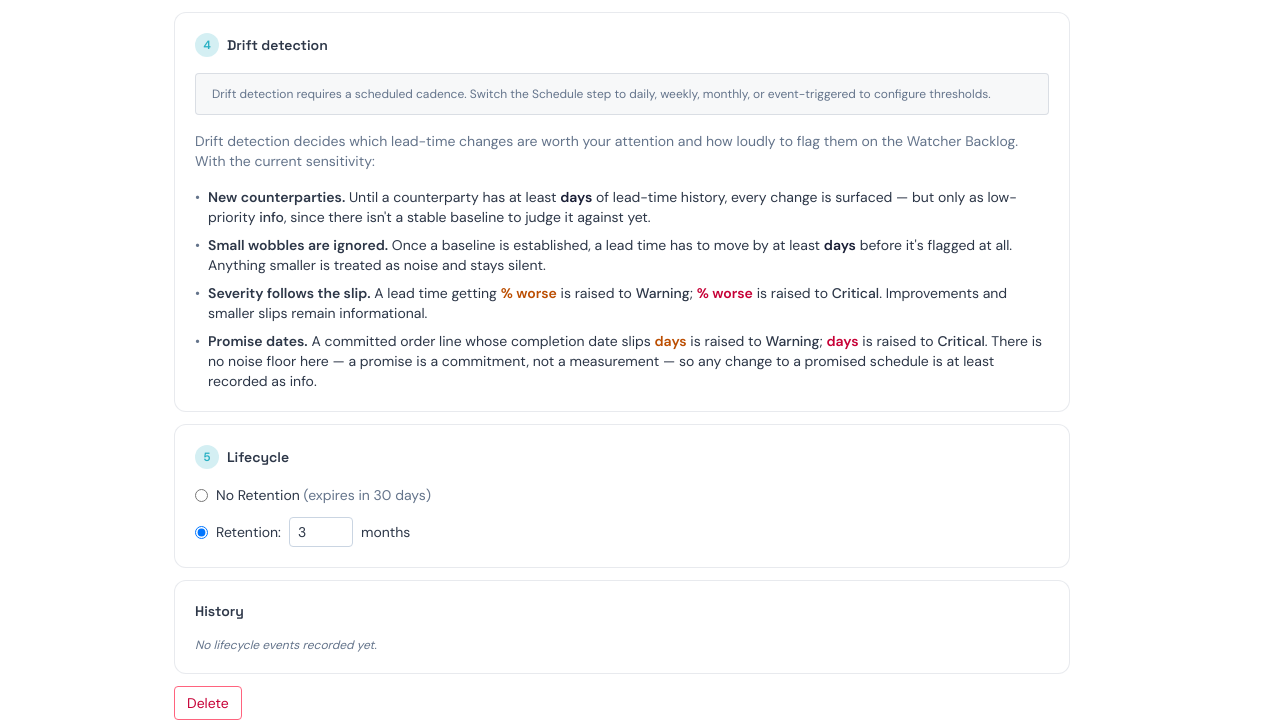
Test: DefinitionEditor (scopeLocked=false — watcher path) › a 409 RUNS_IN_FLIGHT reply becomes a form error naming the count
(page scrolled)
What coordinates should you click on to do the following:
click the button "Delete"
I would click on:
 (208, 703)
Its box is top-left (174, 686), bottom-right (242, 719).
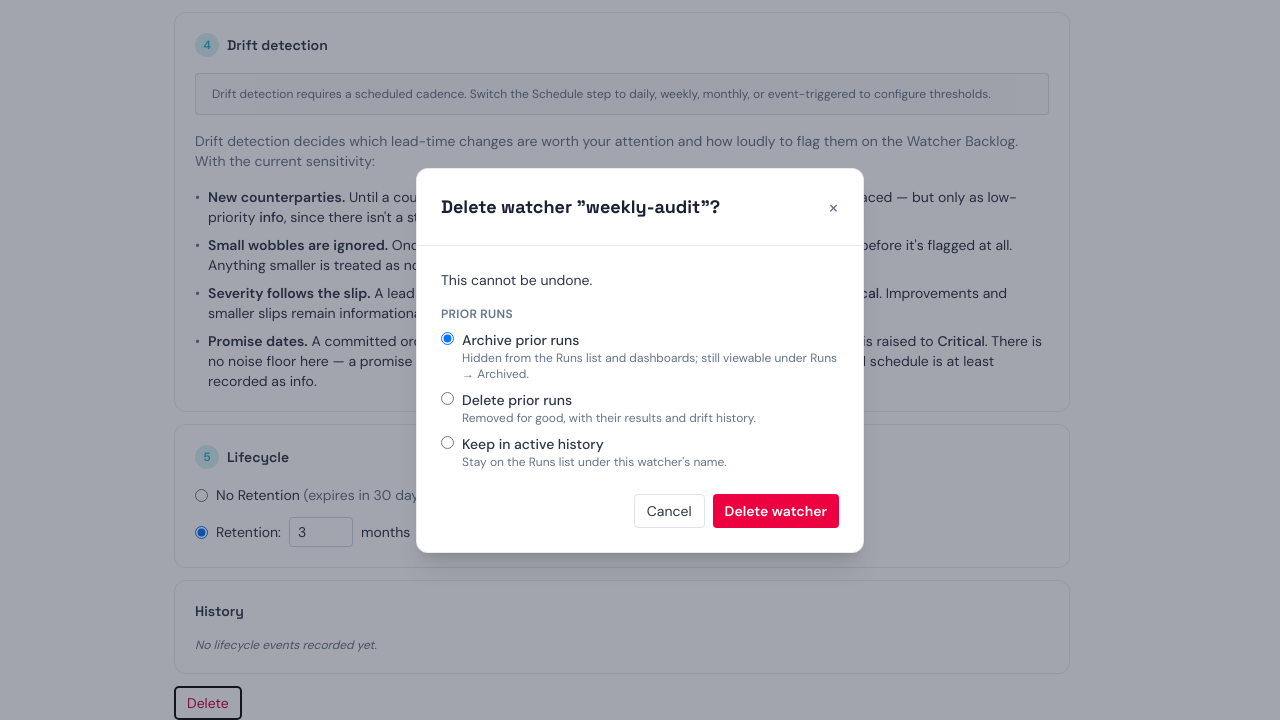
What coordinates should you click on to do the following:
click the button "Delete watcher"
I would click on:
 (776, 510)
Its box is top-left (713, 494), bottom-right (839, 528).
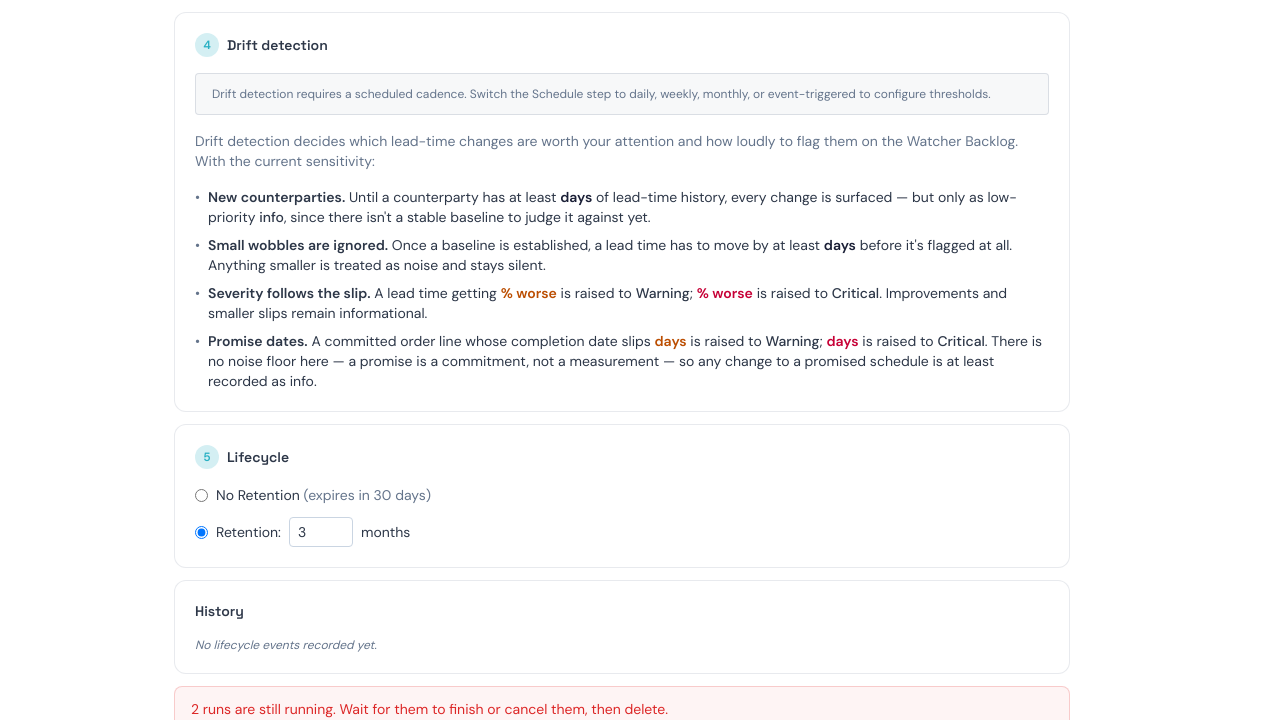
Expected: the text "2 runs are still running" is shown, top-left (191, 700), bottom-right (668, 718)
